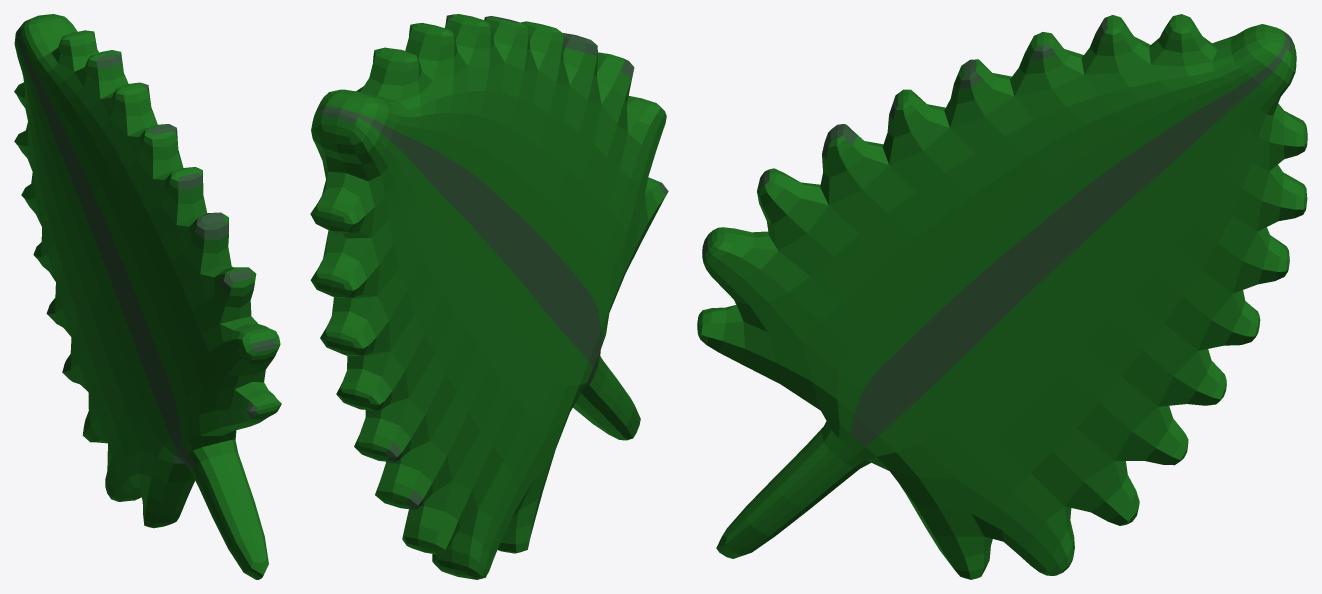
Rendered from Catnip.fbx.
3 views of the same model, side by side, from view 1: azimuth 30°, elevation 25°; view 2: azimuth 150°, elevation 25°; view 3: azimuth 270°, elevation 25° (orthographic). The views are drawn at different scales.
Parts seen in each view (by area): view 1: Catnip; view 2: Catnip; view 3: Catnip.
Part boxes in pixels (x1=…): Catnip: x1=14, y1=14, x2=281, y2=579; Catnip: x1=310, y1=14, x2=668, y2=579; Catnip: x1=697, y1=14, x2=1307, y2=579.
Size of the model in its own units: 63.08 by 499 by 500.
